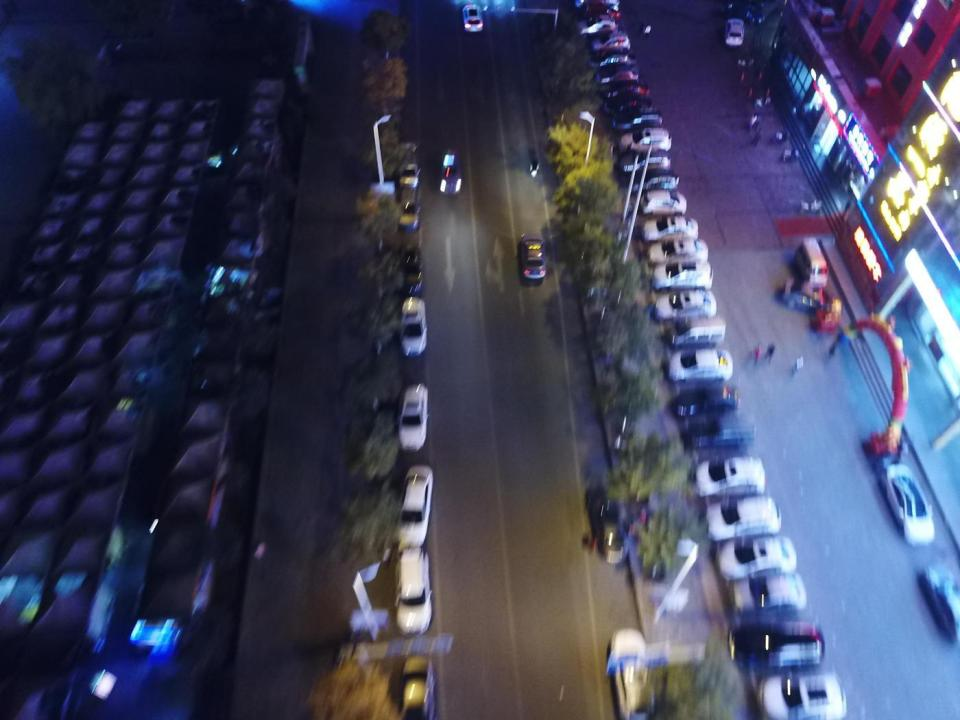car: (728, 619, 822, 669), (754, 671, 848, 719), (610, 628, 657, 720), (882, 463, 935, 544), (716, 534, 797, 578), (393, 548, 434, 634), (730, 572, 807, 616), (391, 466, 432, 548), (918, 562, 960, 642), (702, 497, 780, 538), (690, 455, 765, 497), (401, 655, 440, 718), (682, 415, 753, 449), (592, 495, 627, 562), (668, 348, 732, 384), (783, 278, 842, 317), (672, 386, 740, 417), (652, 288, 716, 320), (398, 383, 427, 451), (650, 260, 713, 291), (648, 236, 708, 265), (398, 297, 426, 356), (394, 241, 422, 294), (619, 128, 672, 155), (644, 217, 698, 243), (518, 233, 546, 280), (638, 190, 687, 216), (608, 108, 660, 132), (620, 152, 670, 175), (629, 174, 679, 196), (396, 187, 419, 231), (439, 149, 461, 194), (590, 50, 636, 67), (595, 67, 637, 85), (605, 97, 650, 112), (592, 32, 629, 50), (604, 84, 648, 99), (579, 6, 620, 21), (461, 4, 483, 31), (578, 22, 617, 37), (398, 162, 418, 188), (726, 17, 743, 46), (573, 0, 619, 10), (398, 140, 417, 159), (746, 7, 764, 22)
van: (668, 316, 727, 346), (796, 238, 828, 288)
